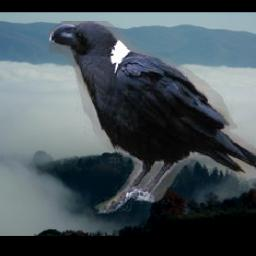Crow: (48, 22, 256, 215)
